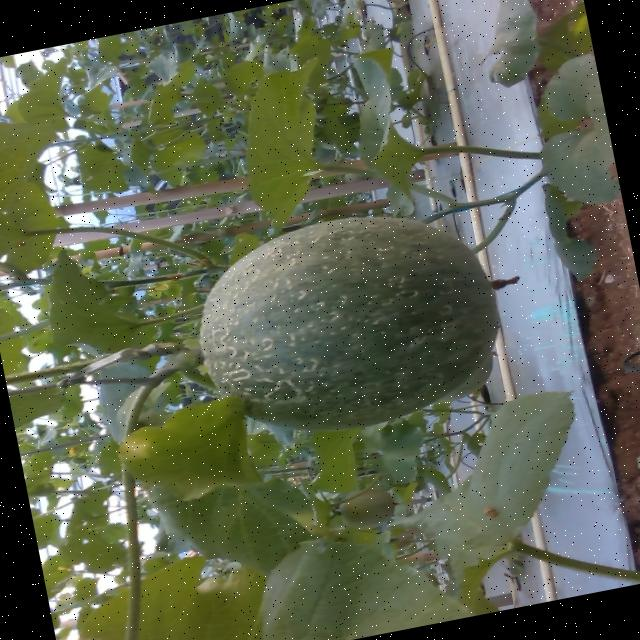melon: (200, 216, 519, 429)
